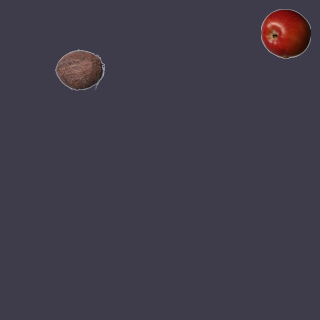Apple Braeburn: (260, 8, 310, 58)
Cocos: (54, 44, 104, 94)
